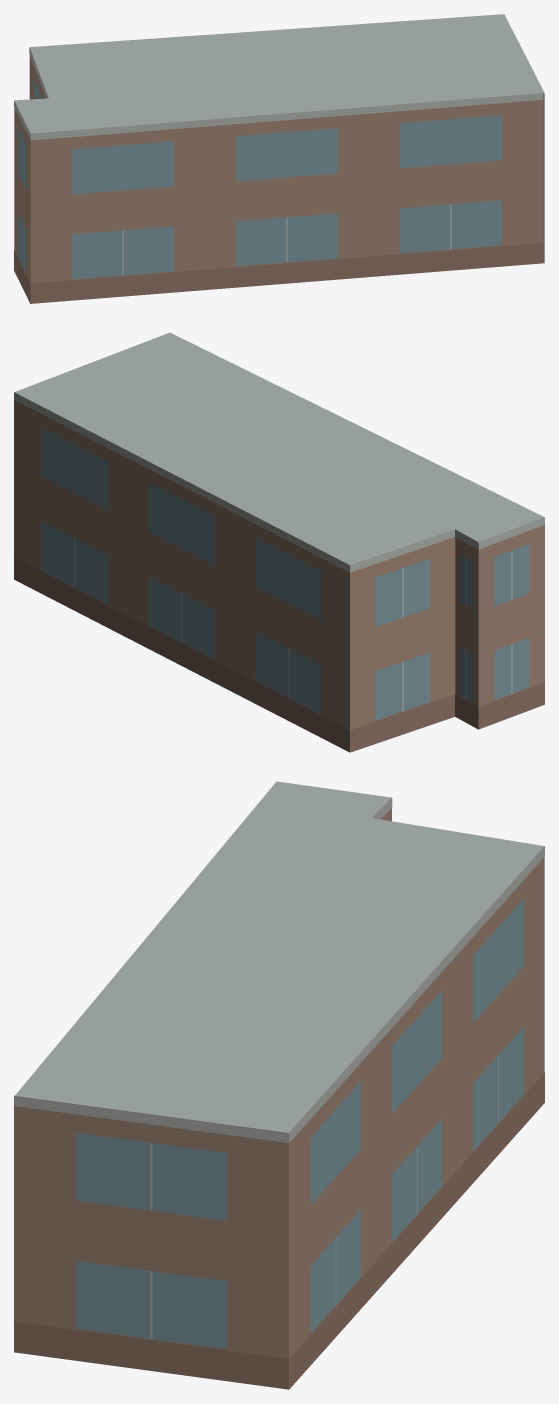
File: survey-upis-32556450.glb
3 renders of one model, top to bottom at view 1: azimuth 30°, elevation 25°; view 2: azimuth 150°, elevation 25°; view 3: azimuth 270°, elevation 25°, orthographic. The views are drawn at different scales.
Parts seen in each view (by area): view 1: survey-upis-32556450.tmp; view 2: survey-upis-32556450.tmp; view 3: survey-upis-32556450.tmp.
Part boxes in pixels (x1,y1,x2,y2): survey-upis-32556450.tmp: [14, 14, 544, 303]; survey-upis-32556450.tmp: [14, 332, 544, 752]; survey-upis-32556450.tmp: [14, 781, 544, 1389].
Size of the model in its own units: 17.94 by 6.1 by 11.44.
